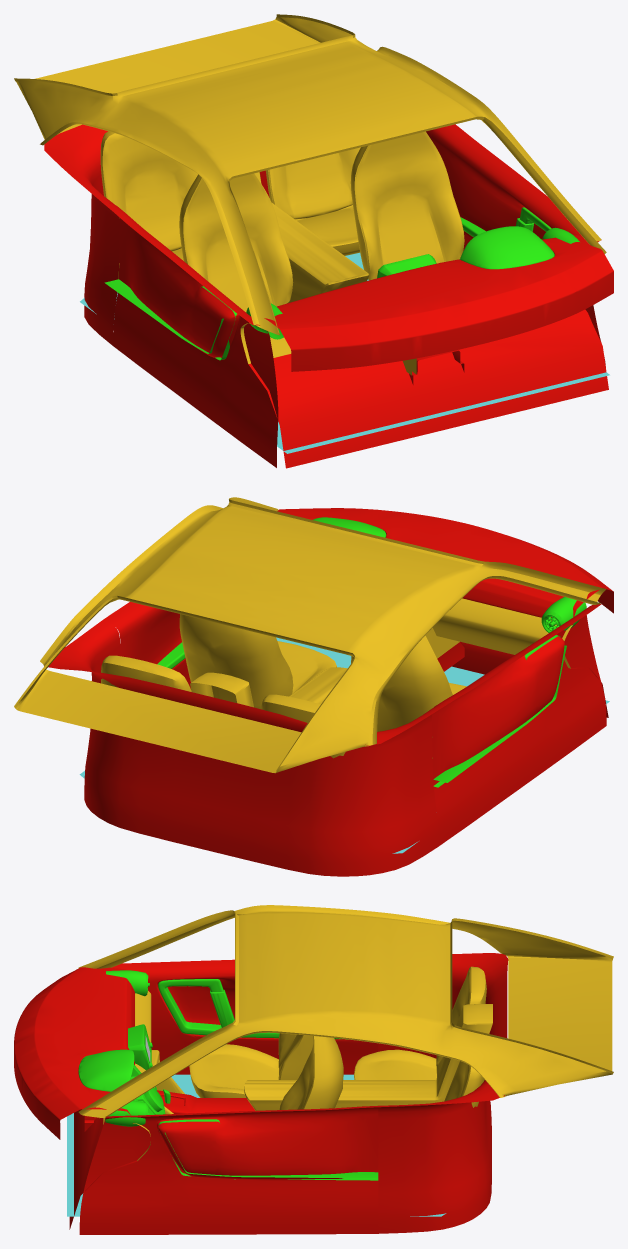
File: Interior_2.fbx
3 renders of one model, top to bottom at view 1: azimuth 30°, elevation 25°; view 2: azimuth 150°, elevation 25°; view 3: azimuth 270°, elevation 25°, orthographic. The views are drawn at different scales.
Visible parts, largest first — view 1: Interior_2; view 2: Interior_2; view 3: Interior_2.
Boxes of the visible parts, x1,y1,x2,y2 form: Interior_2: (14, 14, 613, 468); Interior_2: (14, 497, 613, 876); Interior_2: (14, 905, 613, 1234).
Size of the model in its own units: 151 by 91.13 by 248.
